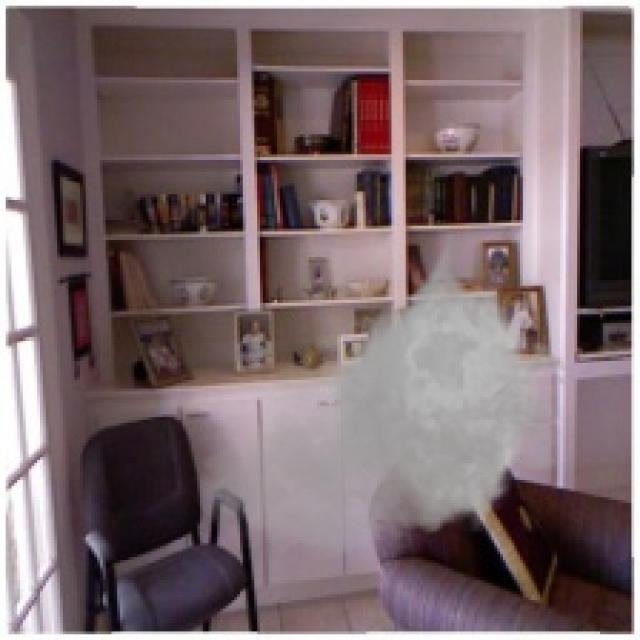Smoke: (191, 226, 583, 568)
